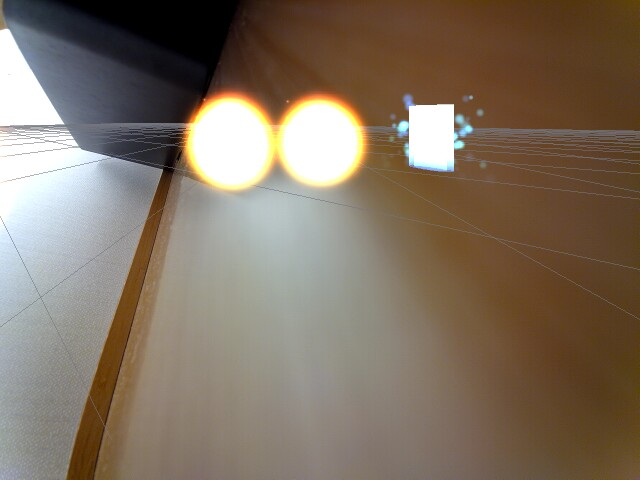firebig: (176, 85, 277, 190)
